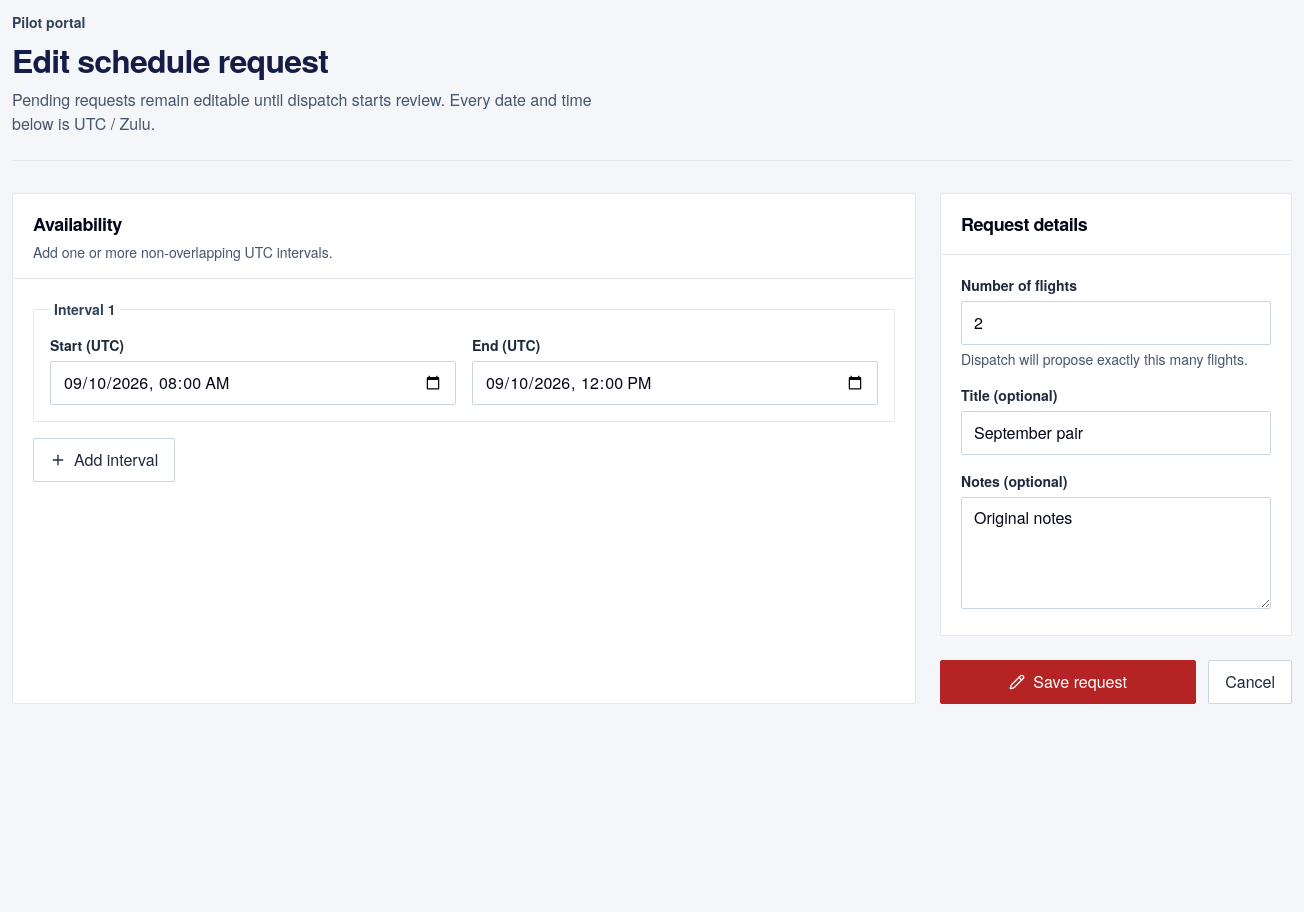
Test: ScheduleRequestForm › shows a reload warning when a pilot edit loses a race
The image size is (1304, 912).
Replace the text in the field labelled "Title (optional)" with "Stale edit" at (1116, 433), box [961,411,1271,455]
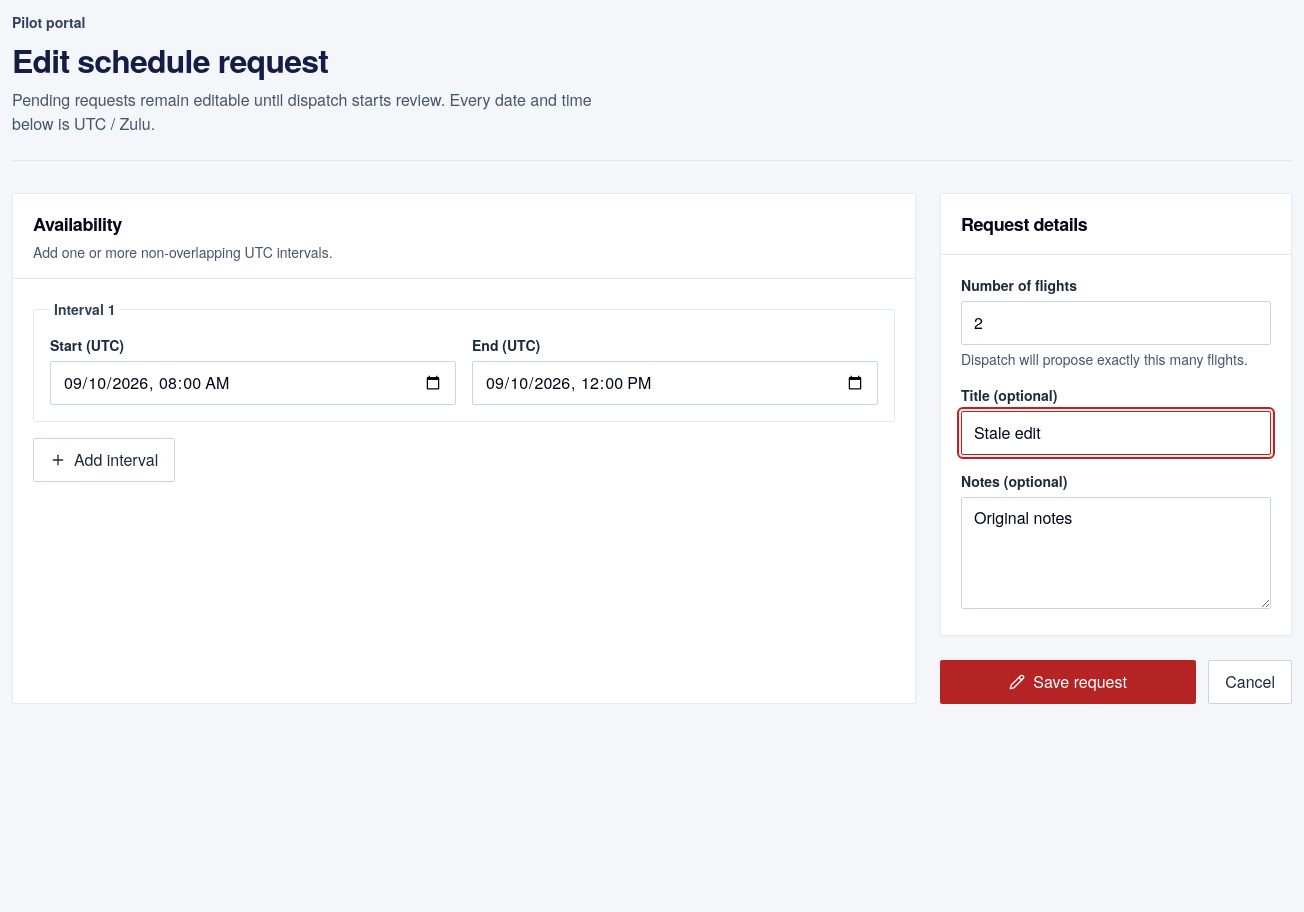
Click the button "Save request" at (1068, 682), box [940,660,1196,704]
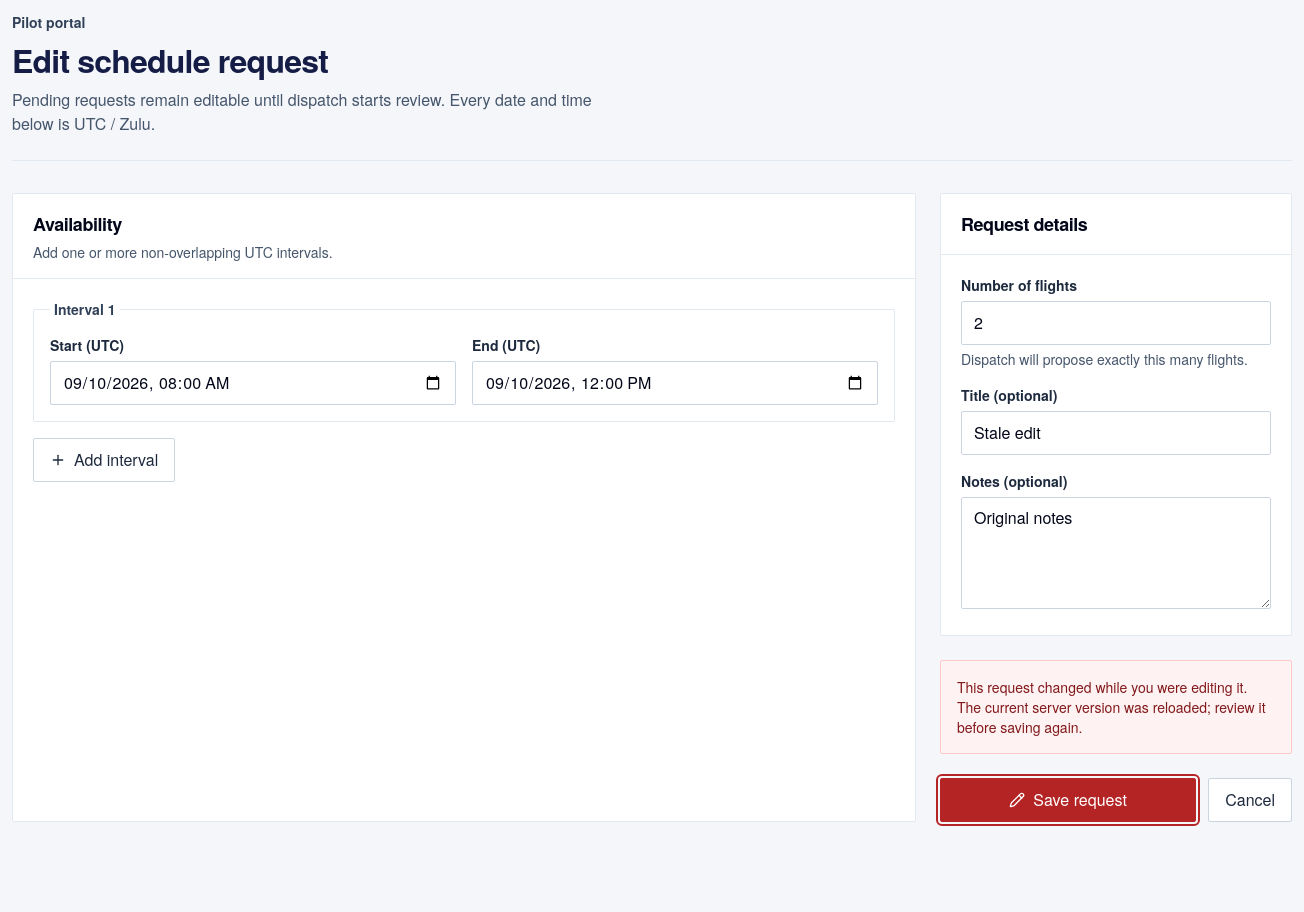
Expected: the text "changed while you were editing" is shown, [957,677,1266,737]
